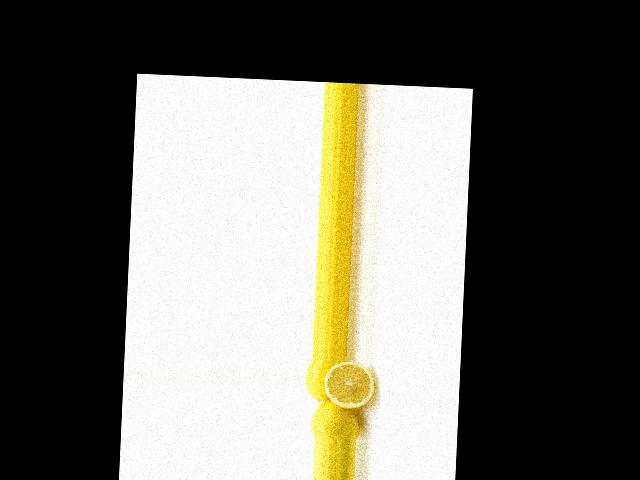lemon: (306, 360, 346, 409)
